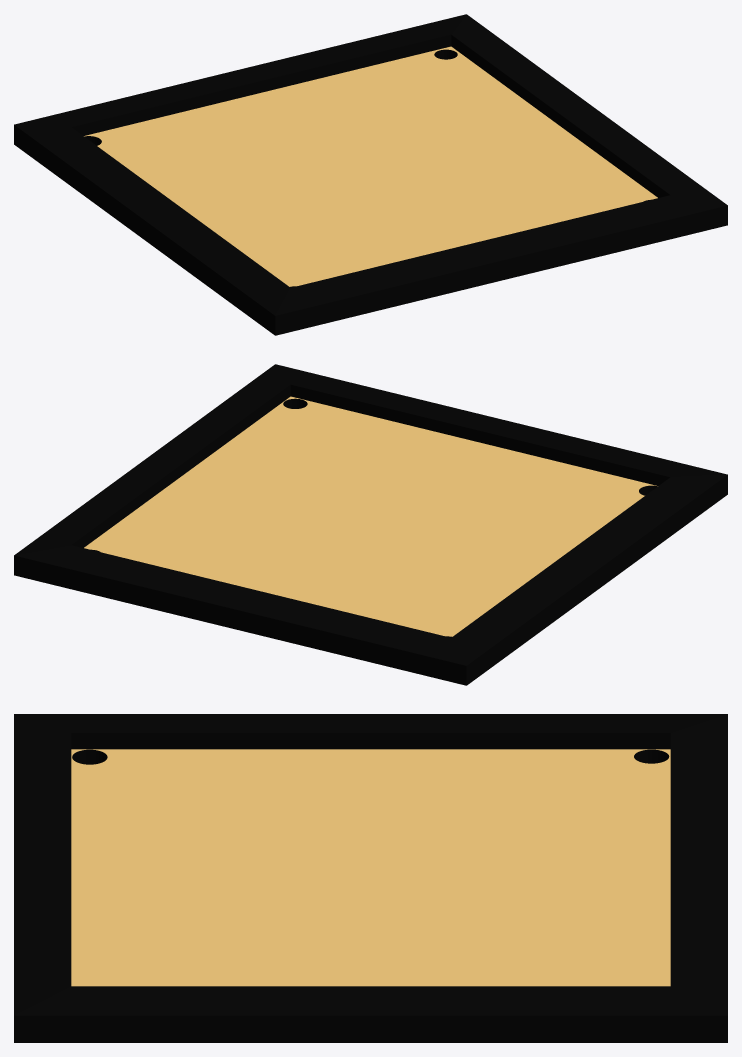
The model's file is carrom board.fbx.
3 views of the same model, one above another, from view 1: azimuth 30°, elevation 25°; view 2: azimuth 150°, elevation 25°; view 3: azimuth 270°, elevation 25° (orthographic). The views are drawn at different scales.
Visible parts, largest first — view 1: Cube; view 2: Cube; view 3: Cube.
Boxes of the visible parts, x1=… form: Cube: x1=14, y1=14, x2=727, y2=335; Cube: x1=14, y1=364, x2=727, y2=685; Cube: x1=14, y1=714, x2=727, y2=1042.
Bounding box in the file's own units: 178 × 8.94 × 178.
